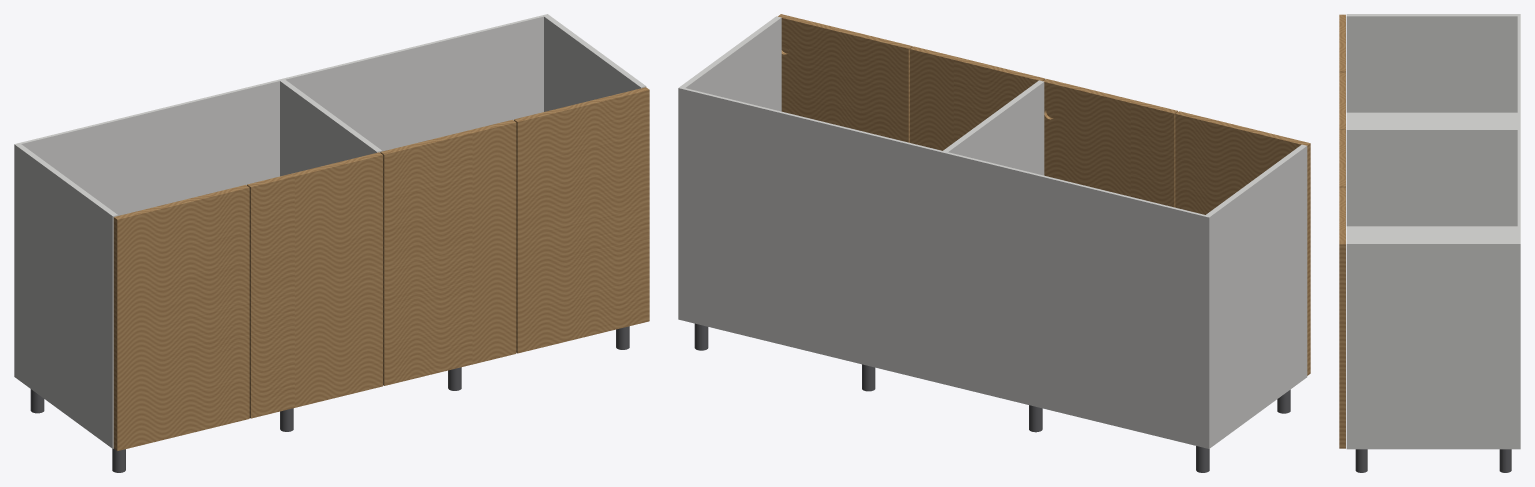
Rendered from w1800_none_pair_closed.glb.
3 renders of one model, left to right at view 1: azimuth 30°, elevation 25°; view 2: azimuth 150°, elevation 25°; view 3: azimuth 270°, elevation 25°, orthographic. The views are drawn at different scales.
Parts seen in each view (by area): view 1: oak, white, leg; view 2: white, oak, leg; view 3: white, oak, leg.
Part boxes in pixels (x1,y1,x2,y2): oak: (113,87,649,450); white: (14,14,646,448); leg: (30,326,629,472); white: (678,16,1307,448); oak: (778,14,1310,375); leg: (694,323,1290,472); white: (1346,14,1520,449); oak: (1339,14,1345,448); leg: (1355,449,1511,472).
Size of the model in its own units: 1.8 by 0.85 by 0.6.
3 materials, 1 textured.
